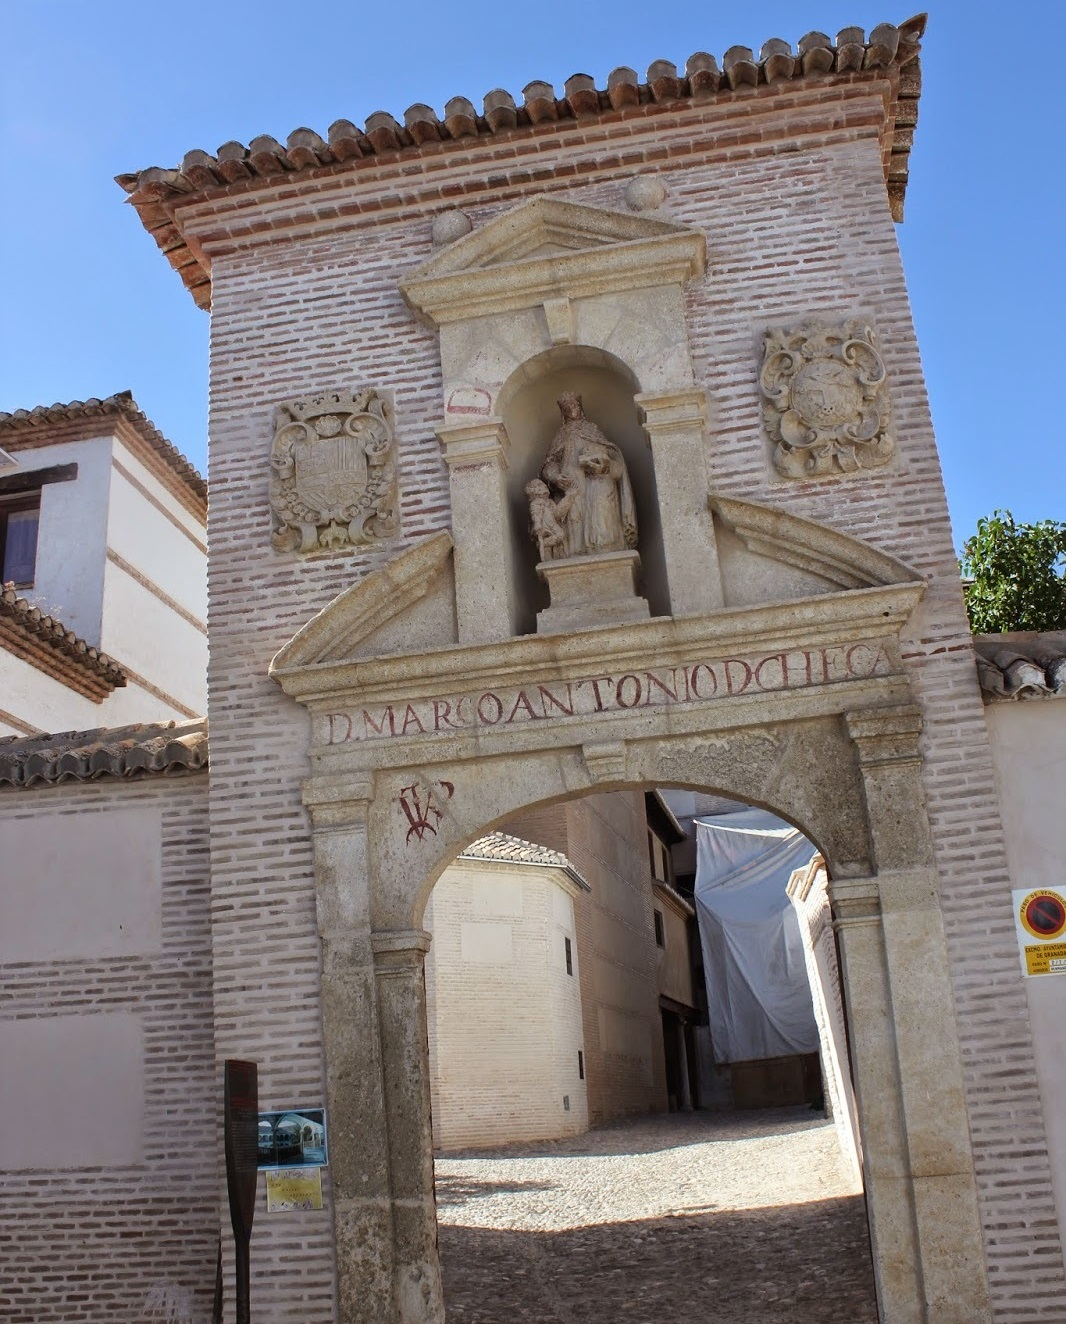arco-medio-punto: (489, 343, 659, 437)
fronton: (397, 191, 717, 305)
fronton-partido: (268, 488, 935, 698)
